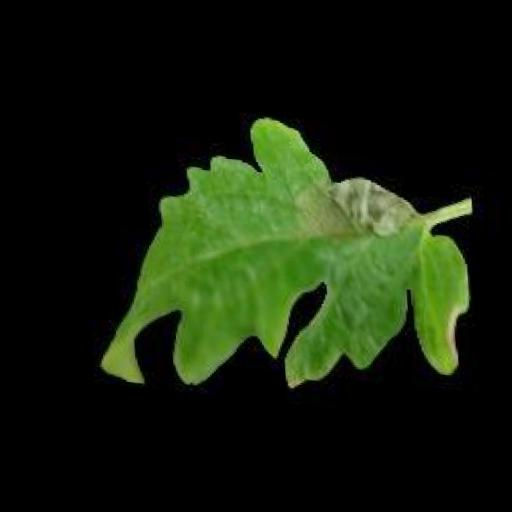Late Blight: (71, 96, 478, 417)
